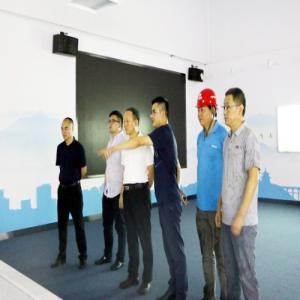none: (223, 87, 248, 130), (150, 97, 171, 130), (124, 106, 142, 137), (108, 111, 124, 138), (61, 117, 76, 142)
red: (195, 88, 220, 130)
